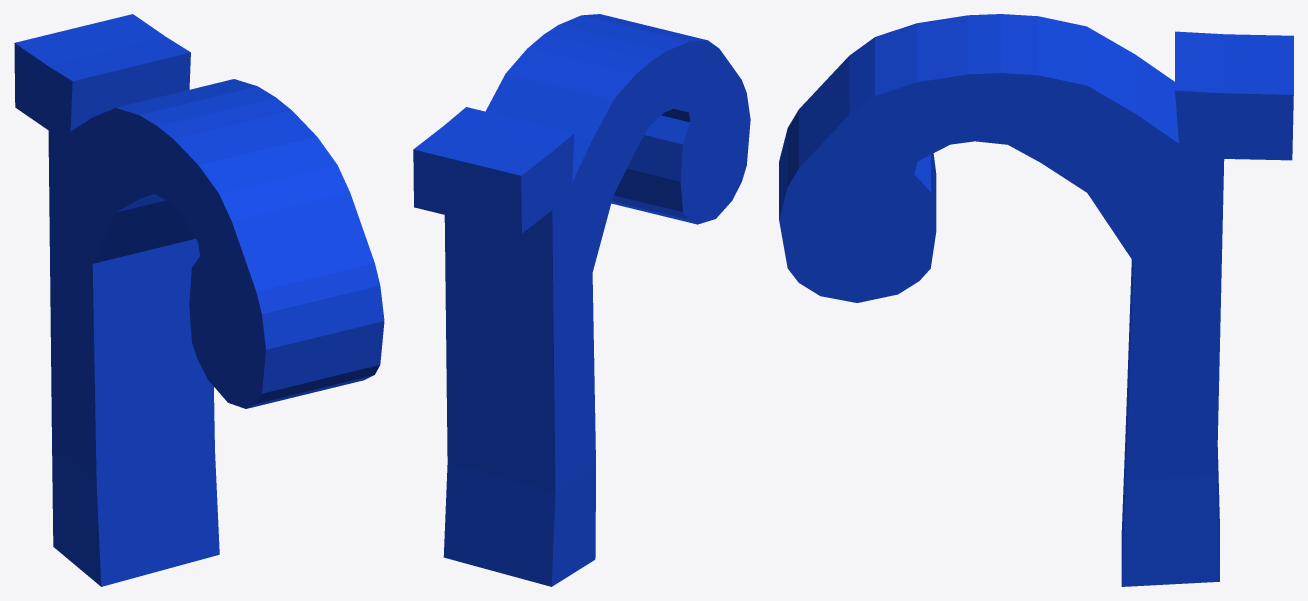
3 renders of one model, left to right at view 1: azimuth 30°, elevation 25°; view 2: azimuth 150°, elevation 25°; view 3: azimuth 270°, elevation 25°, orthographic. The views are drawn at different scales.
Parts seen in each view (by area): view 1: Cube; view 2: Cube; view 3: Cube.
Boxes of the visible parts, <box> form: Cube: <box>14,14,384,586</box>; Cube: <box>413,14,750,586</box>; Cube: <box>779,14,1293,586</box>.
Bounding box in the file's own units: 205 × 814 × 736.
